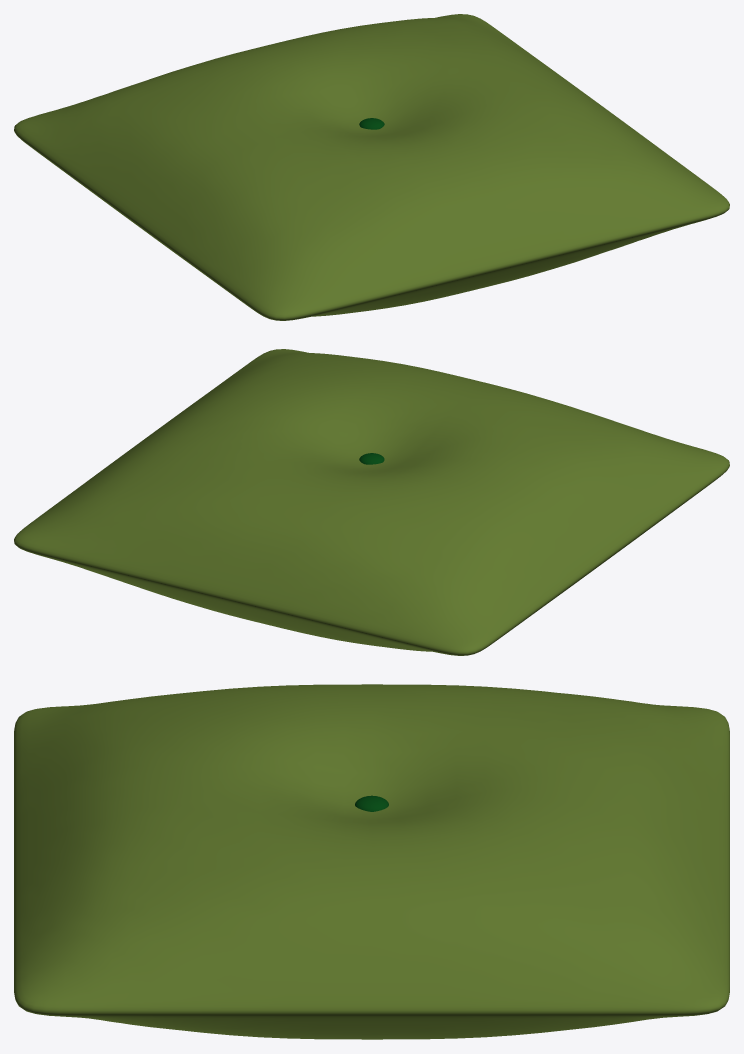
File: cushion-meshopt.glb
3 views of the same model, one above another, from view 1: azimuth 30°, elevation 25°; view 2: azimuth 150°, elevation 25°; view 3: azimuth 270°, elevation 25° (orthographic). The views are drawn at different scales.
Bounding box in the file's own units: 2.04 × 0.5368 × 2.04.
